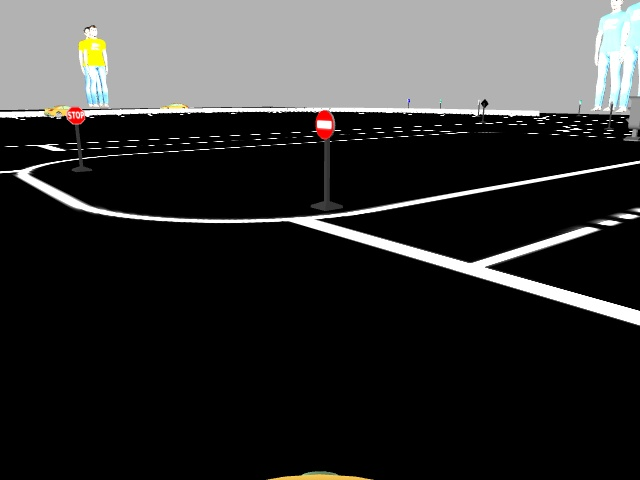NoEntry: (313, 111, 336, 140)
Stop: (63, 107, 83, 125)
